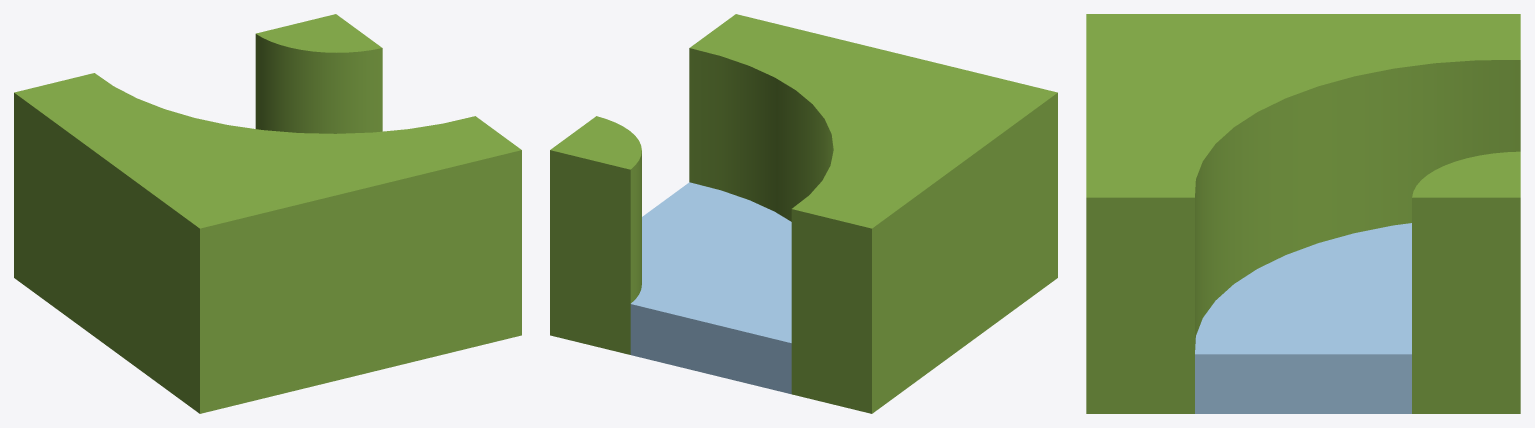
The model's file is roadTile_186.fbx.
3 views of the same model, side by side, from view 1: azimuth 30°, elevation 25°; view 2: azimuth 150°, elevation 25°; view 3: azimuth 270°, elevation 25° (orthographic). The views are drawn at different scales.
Visible parts, largest first — view 1: roadTile_186; view 2: roadTile_186; view 3: roadTile_186.
Boxes of the visible parts, x1,y1,x2,y2 form: roadTile_186: (14,14,521,413); roadTile_186: (550,14,1057,413); roadTile_186: (1086,14,1520,413).
Bounding box in the file's own units: 118 × 64.96 × 118.
